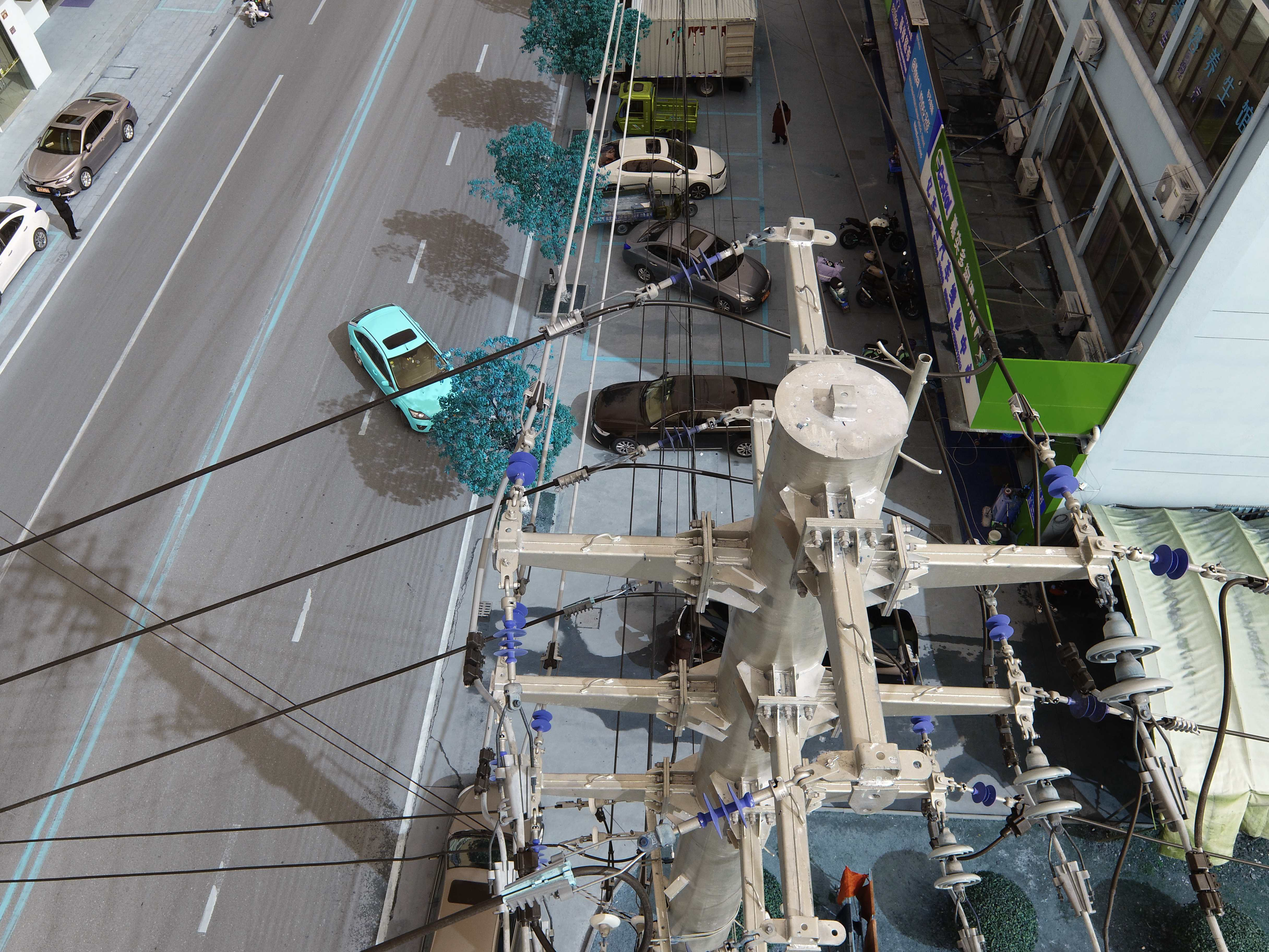severe_soiling_no_discharge_whole: (1067, 691, 1089, 720)
